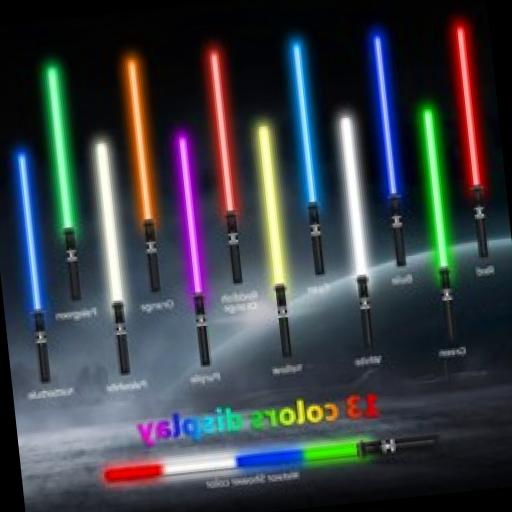lightsaber: (42, 64, 88, 303), (367, 30, 413, 268), (122, 55, 167, 294), (286, 38, 330, 274), (172, 134, 216, 368), (335, 114, 378, 348), (418, 109, 460, 342), (254, 125, 296, 357), (92, 144, 134, 376), (14, 152, 54, 382)
sith saber: (448, 20, 495, 260), (204, 48, 248, 285)
